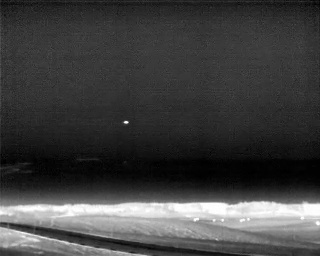BIRD: (121, 118, 131, 128)
